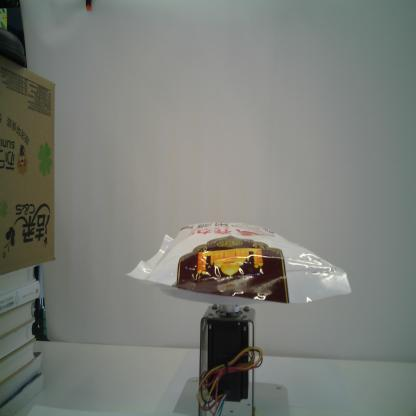Dried Food: (124, 221, 352, 304)
